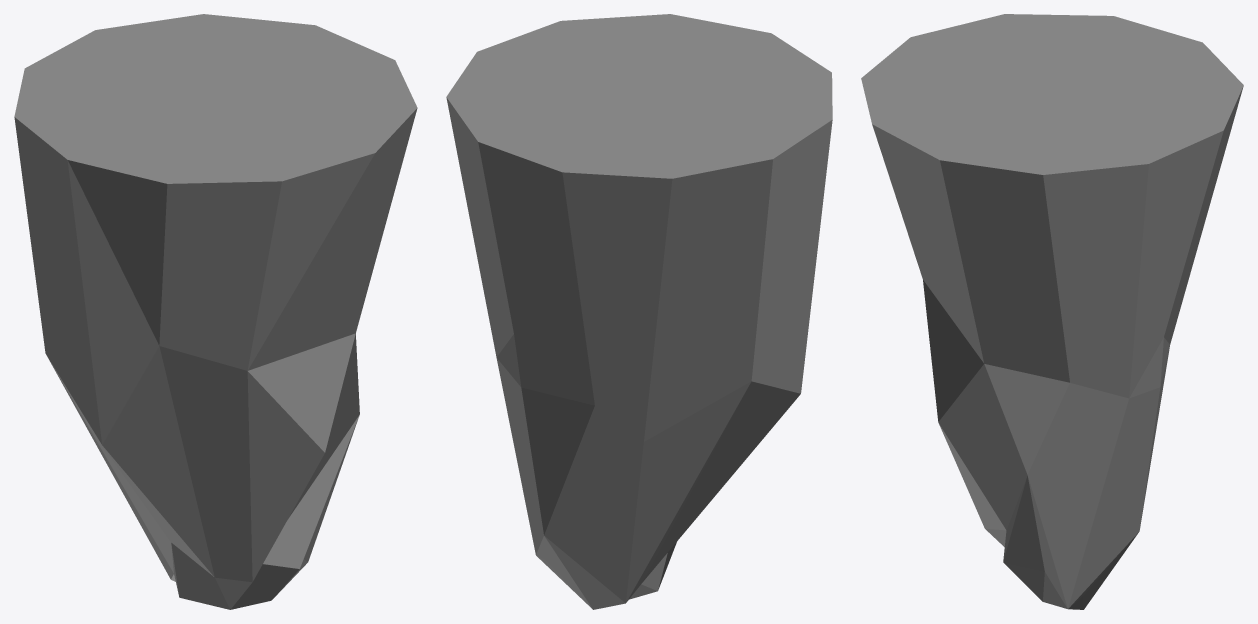
File: Stalactite 1.fbx
3 renders of one model, left to right at view 1: azimuth 30°, elevation 25°; view 2: azimuth 150°, elevation 25°; view 3: azimuth 270°, elevation 25°, orthographic. The views are drawn at different scales.
Visible parts, largest first — view 1: Stalactite_1; view 2: Stalactite_1; view 3: Stalactite_1.
Boxes of the visible parts, box(x1,y1,x2,y2) form: Stalactite_1: box(14, 14, 417, 609); Stalactite_1: box(446, 14, 832, 609); Stalactite_1: box(861, 14, 1243, 609).
Bounding box in the file's own units: 181 × 262 × 182.
1 material, 1 textured.
